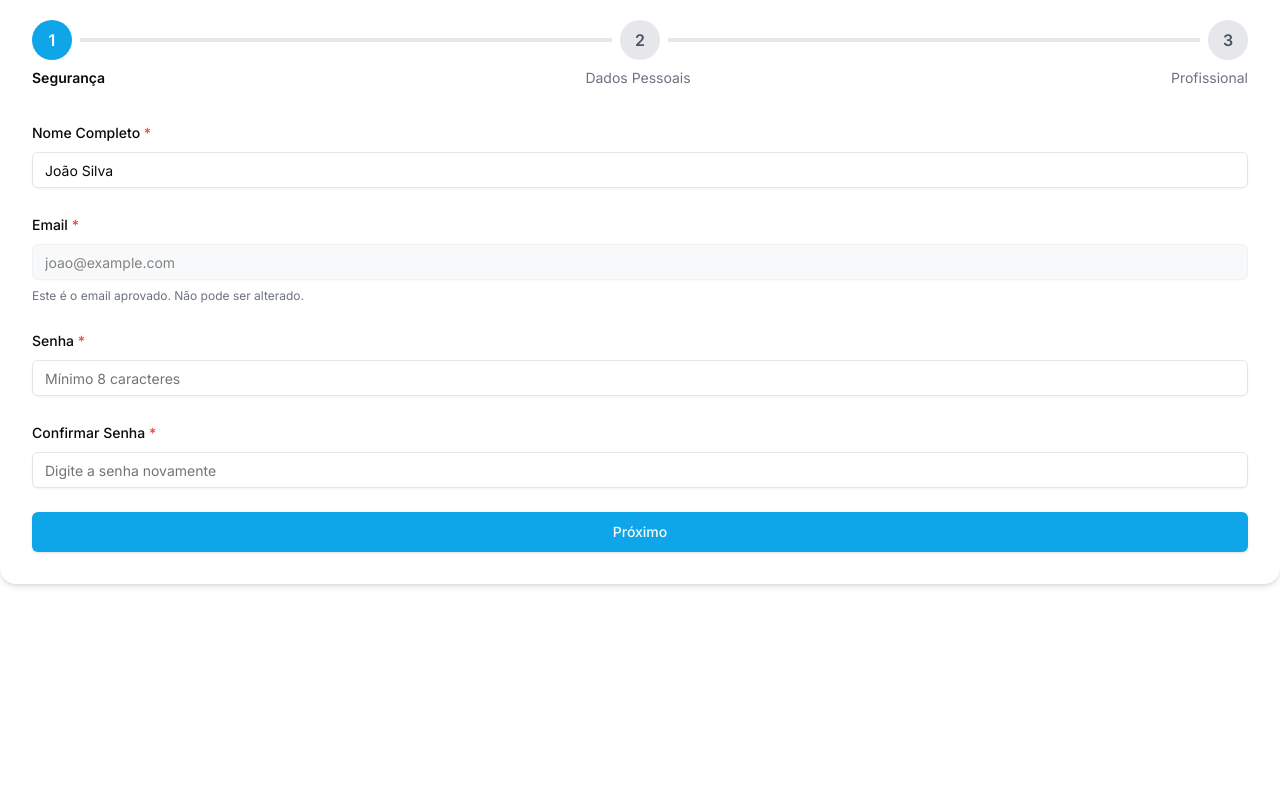
Test: CompleteRegistrationForm › should show error message on submission failure
This screenshot has width=1280, height=788.
In the password field labelled "Senha *": (640, 378) [32,360,1248,396], type "password123"
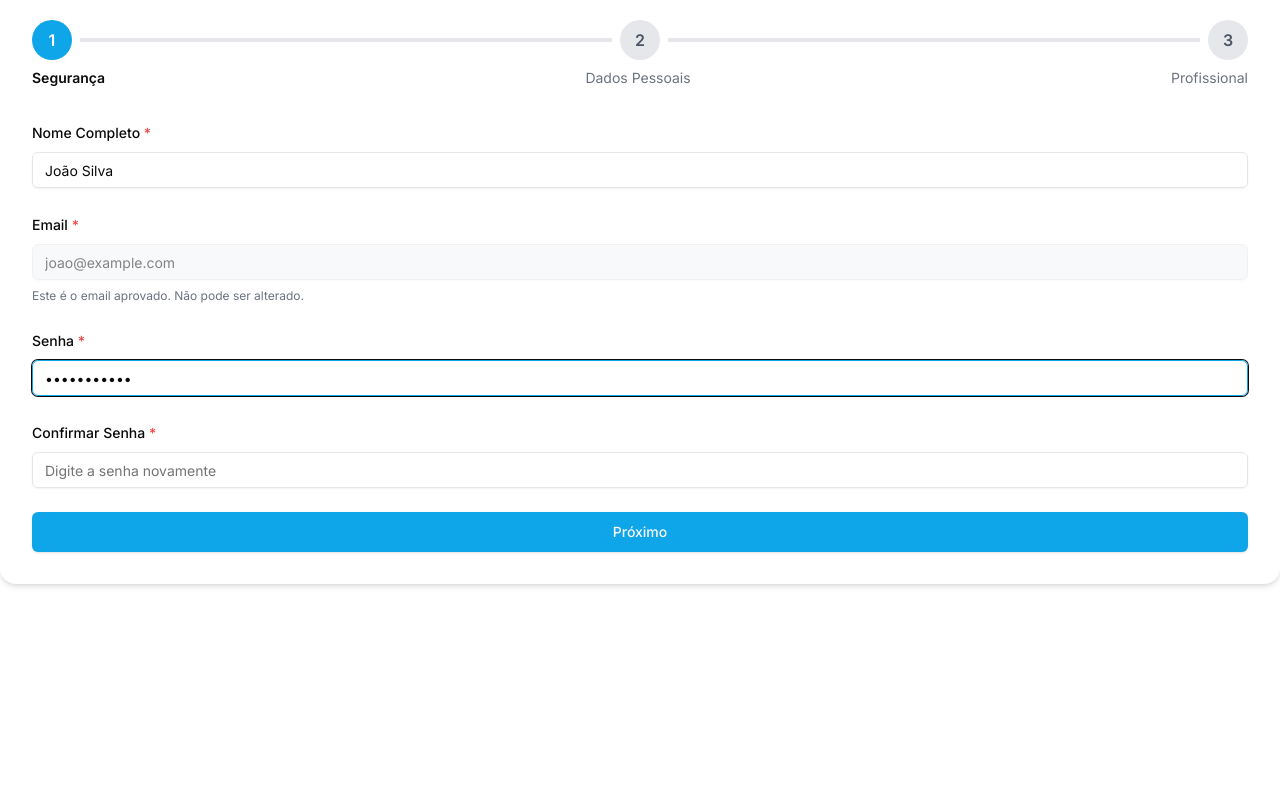
In the password field with id "confirmPassword": (640, 470) [32,452,1248,488], type "password123"
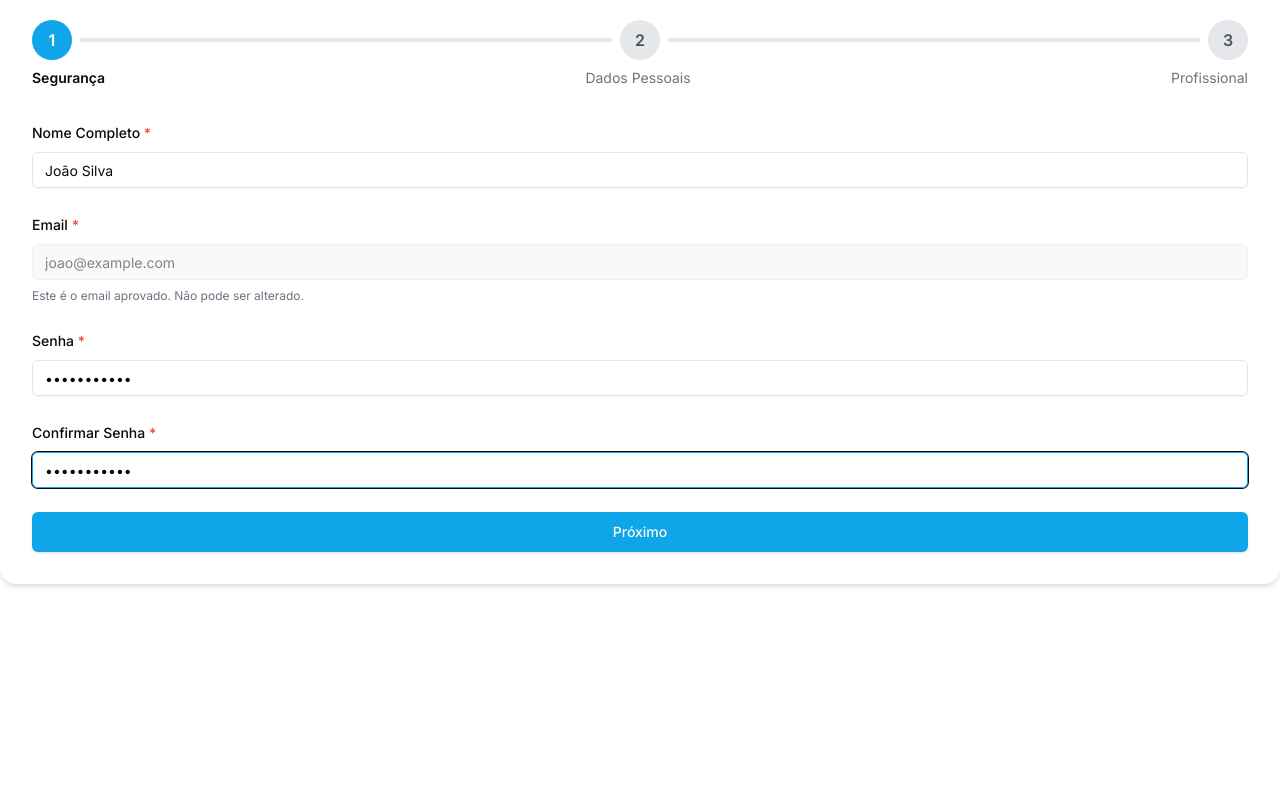
Click the button "Próximo": (640, 532) [32,512,1248,552]
(page scrolled)
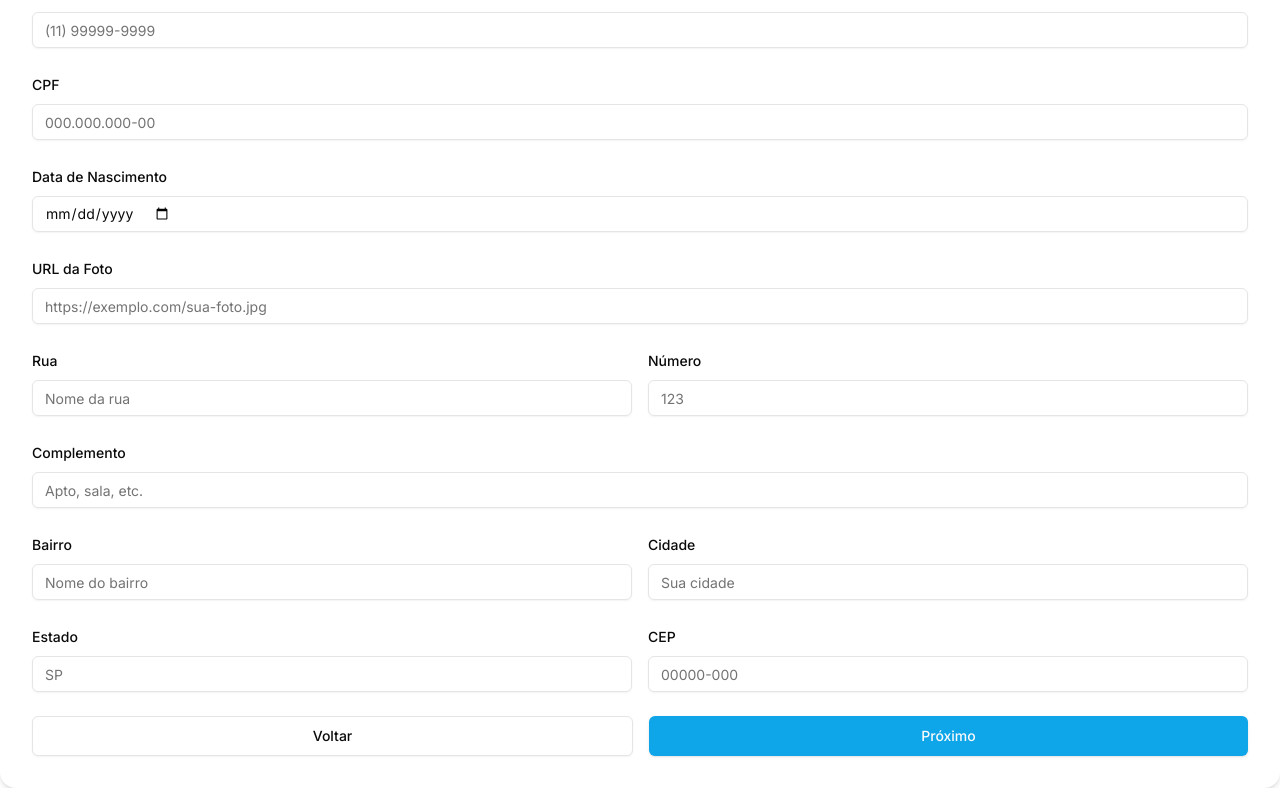
Click the button "Próximo": (948, 736) [649,716,1248,756]
(page scrolled)
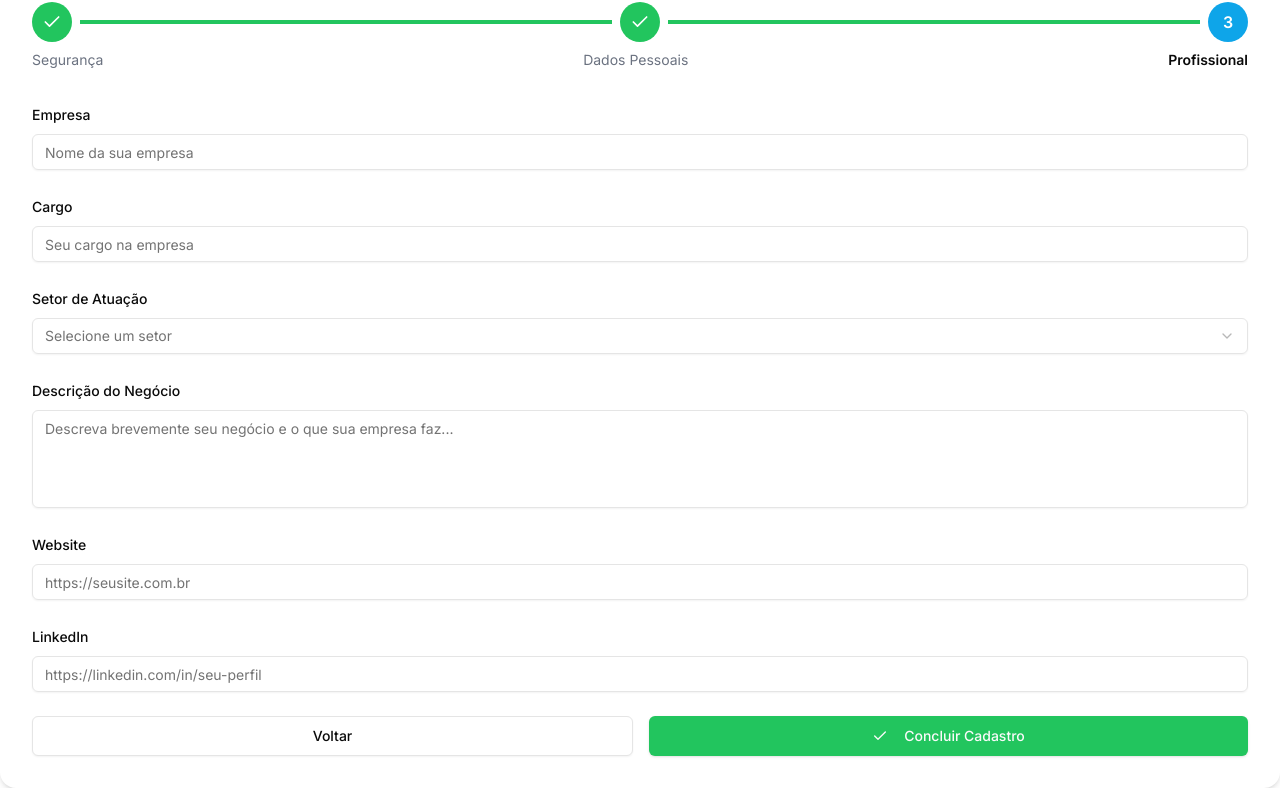
Expected: the text "Profissional" is shown, [1168,50,1248,70]
Click the button "Concluir Cadastro": (948, 736) [649,716,1248,756]
(page scrolled)
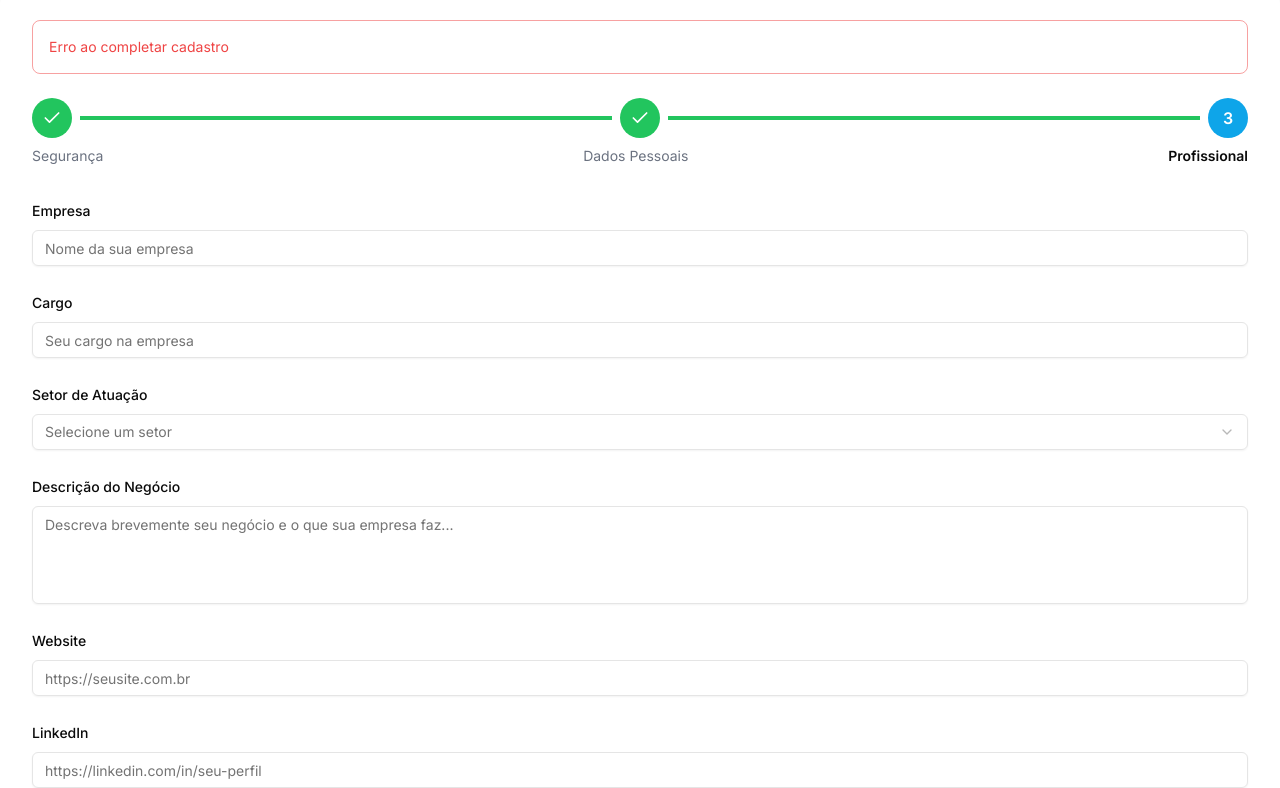
Now the text "Erro ao completar cadastro" is shown, box [49,38,229,55]
